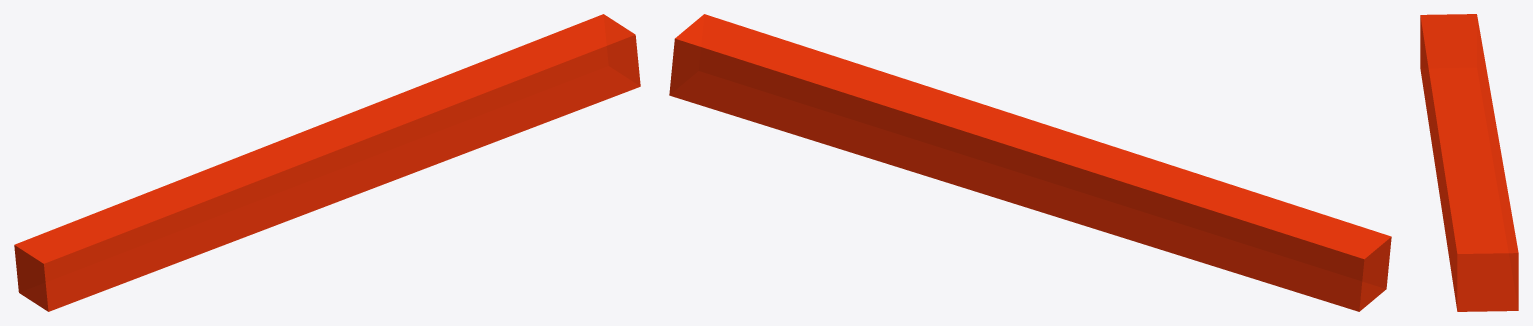
The model's file is Event_421278790_EErechit_38.fbx.
The picture shows the model from 3 angles, left to right: view 1: azimuth 30°, elevation 25°; view 2: azimuth 150°, elevation 25°; view 3: azimuth 270°, elevation 25°; orthographic projection. The views are drawn at different scales.
Visible parts, largest first — view 1: Model; view 2: Model; view 3: Model.
Boxes of the visible parts, bbox=[...] form: Model: bbox=[14, 14, 640, 311]; Model: bbox=[669, 14, 1391, 311]; Model: bbox=[1420, 14, 1518, 311].
Size of the model in its own units: 0.9476 by 0.1716 by 0.1257.
